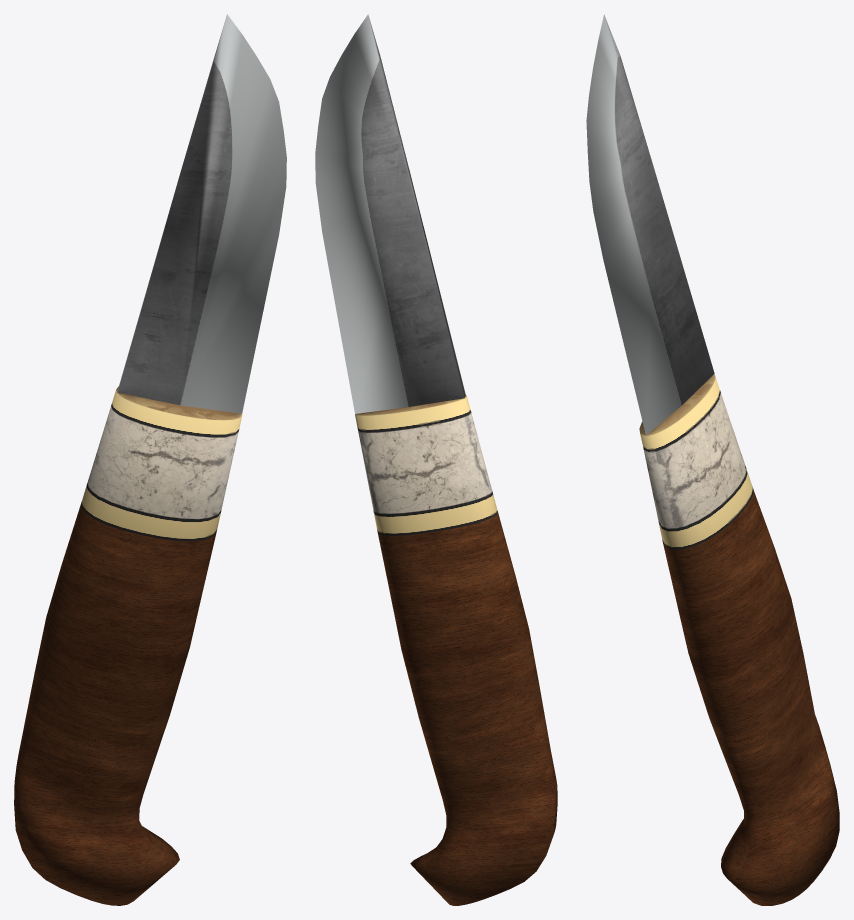
The model's file is Knife.fbx.
3 views of the same model, side by side, from view 1: azimuth 30°, elevation 25°; view 2: azimuth 210°, elevation 25°; view 3: azimuth 270°, elevation 25° (orthographic). The views are drawn at different scales.
Parts seen in each view (by area): view 1: Finnish knife; view 2: Finnish knife; view 3: Finnish knife.
Boxes of the visible parts, left/top/right/bottom form: Finnish knife: left=14, top=14, right=286, bottom=905; Finnish knife: left=315, top=14, right=557, bottom=905; Finnish knife: left=586, top=14, right=839, bottom=905.
Bounding box in the file's own units: 0.0395 × 0.2171 × 0.0556.
